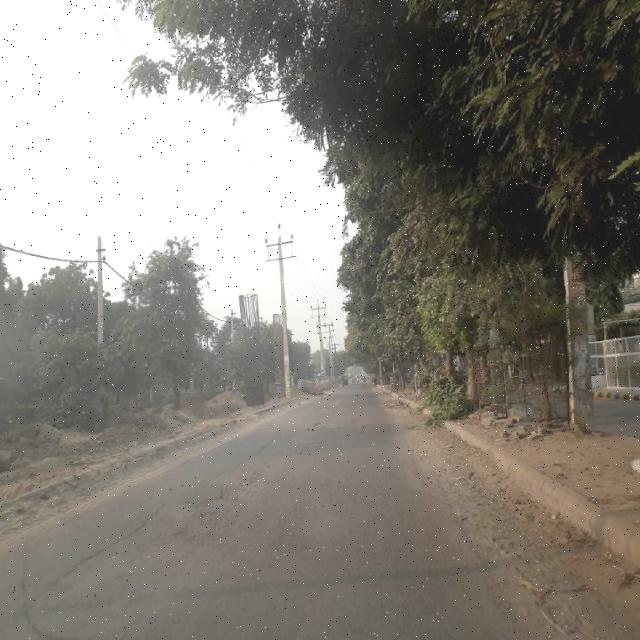D00: (71, 498, 173, 580)
D40: (202, 457, 268, 516)
